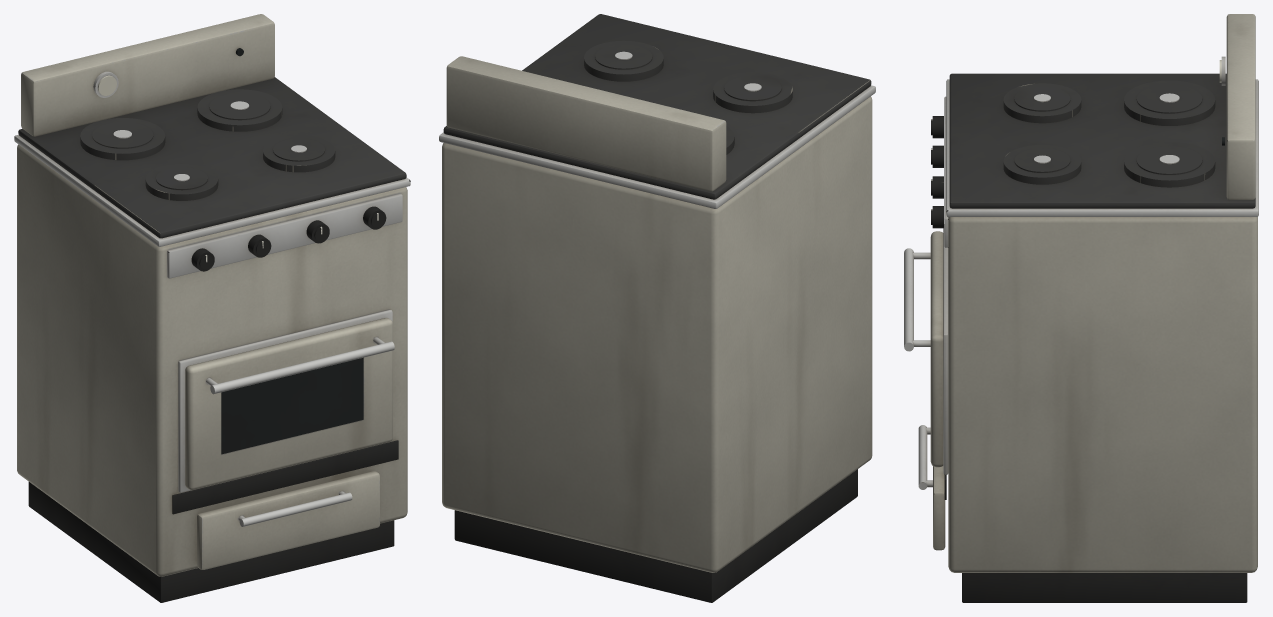
File: herd.glb
The picture shows the model from 3 angles, left to right: view 1: azimuth 30°, elevation 25°; view 2: azimuth 150°, elevation 25°; view 3: azimuth 270°, elevation 25°; orthographic projection. The views are drawn at different scales.
Parts seen in each view (by area): view 1: korpus, tuer; view 2: korpus; view 3: korpus, tuer.
Boxes of the visible parts, x1=… form: korpus: x1=14, y1=14, x2=410, y2=602; tuer: x1=185, y1=318, x2=394, y2=490; korpus: x1=439, y1=14, x2=875, y2=602; korpus: x1=918, y1=14, x2=1258, y2=602; tuer: x1=904, y1=231, x2=943, y2=467.
Bounding box in the file's own units: 0.604 × 0.99 × 0.6835.
Materials: 1 (1 with a texture image).
